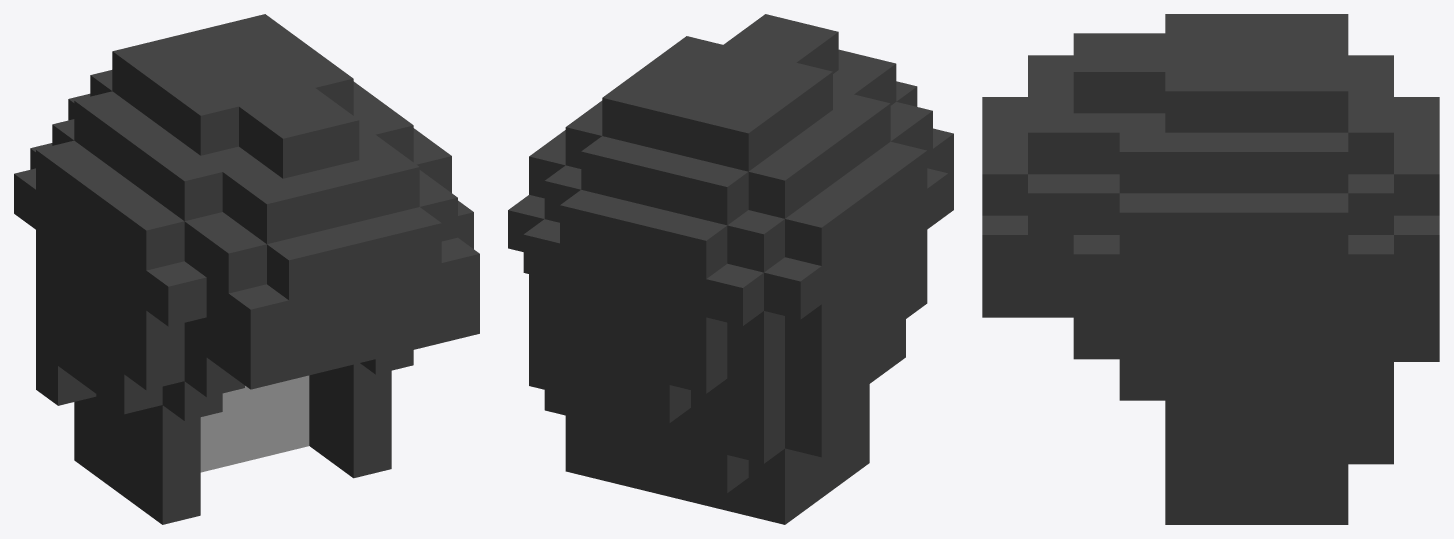
File: helmet-1.obj
3 views of the same model, side by side, from view 1: azimuth 30°, elevation 25°; view 2: azimuth 150°, elevation 25°; view 3: azimuth 270°, elevation 25° (orthographic). The views are drawn at different scales.
Bounding box in the file's own units: 8 × 10 × 10.
1 material, 1 textured.
